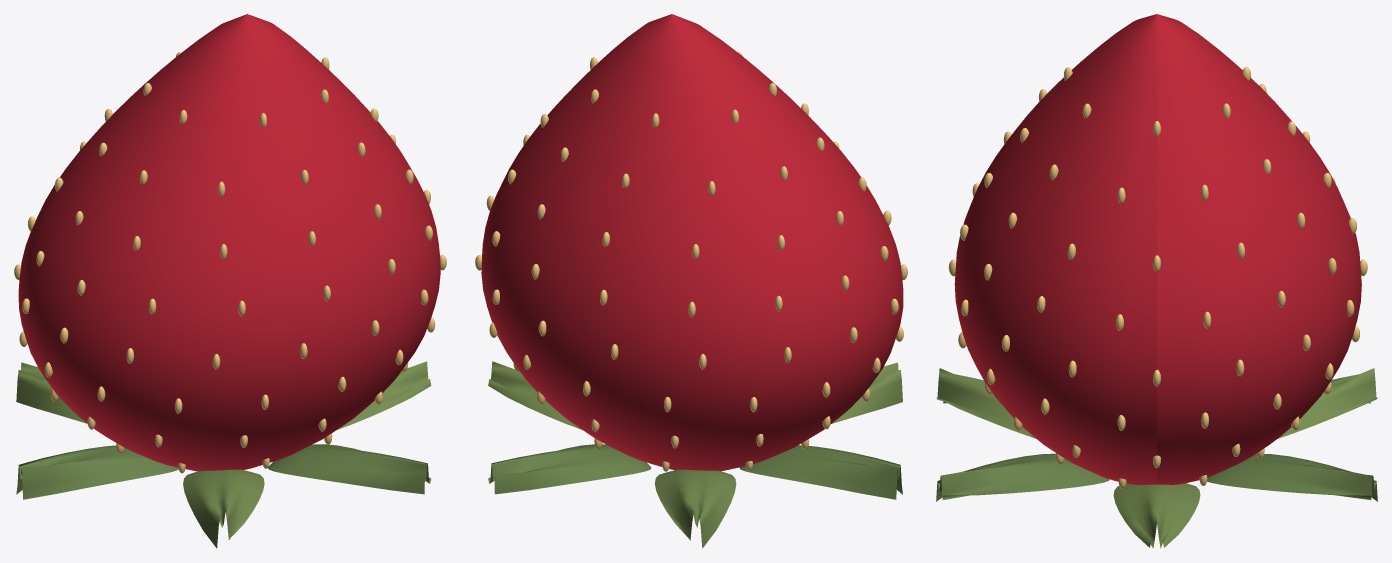
File: strawberry.glb
The picture shows the model from 3 angles, left to right: view 1: azimuth 30°, elevation 25°; view 2: azimuth 150°, elevation 25°; view 3: azimuth 270°, elevation 25°; orthographic projection. The views are drawn at different scales.
Bounding box in the file's own units: 0.3121 × 0.325 × 0.2747.
